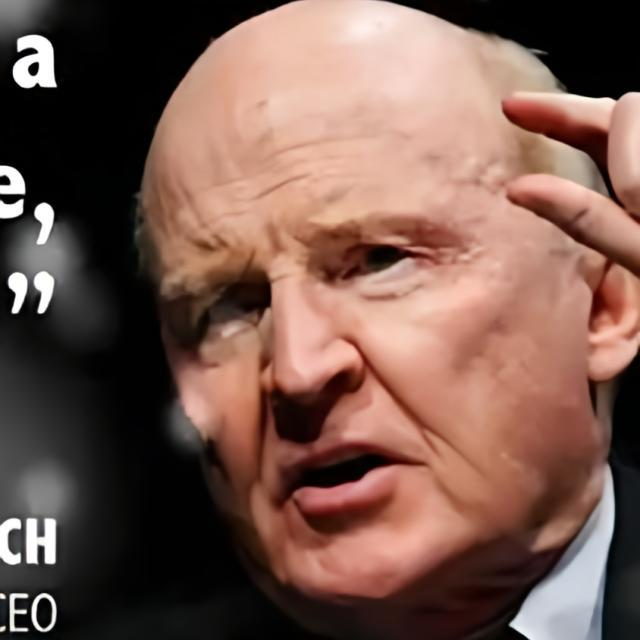disgust: (141, 1, 588, 630)
